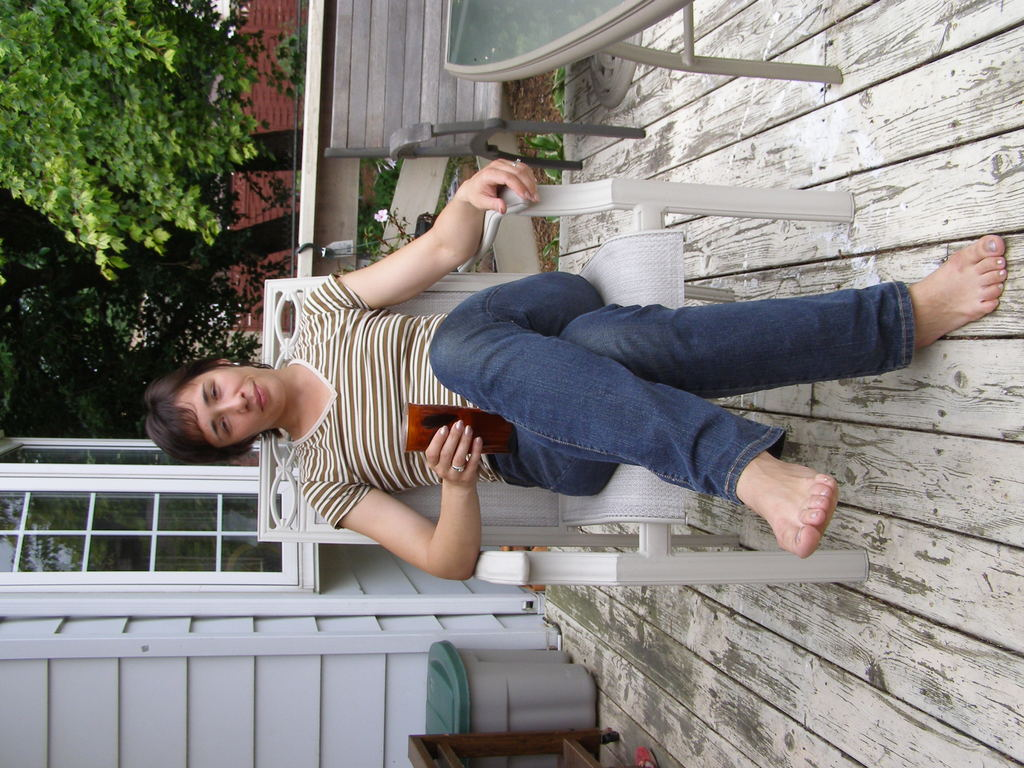Human_hand: (461, 155, 538, 218), (420, 417, 485, 488)
